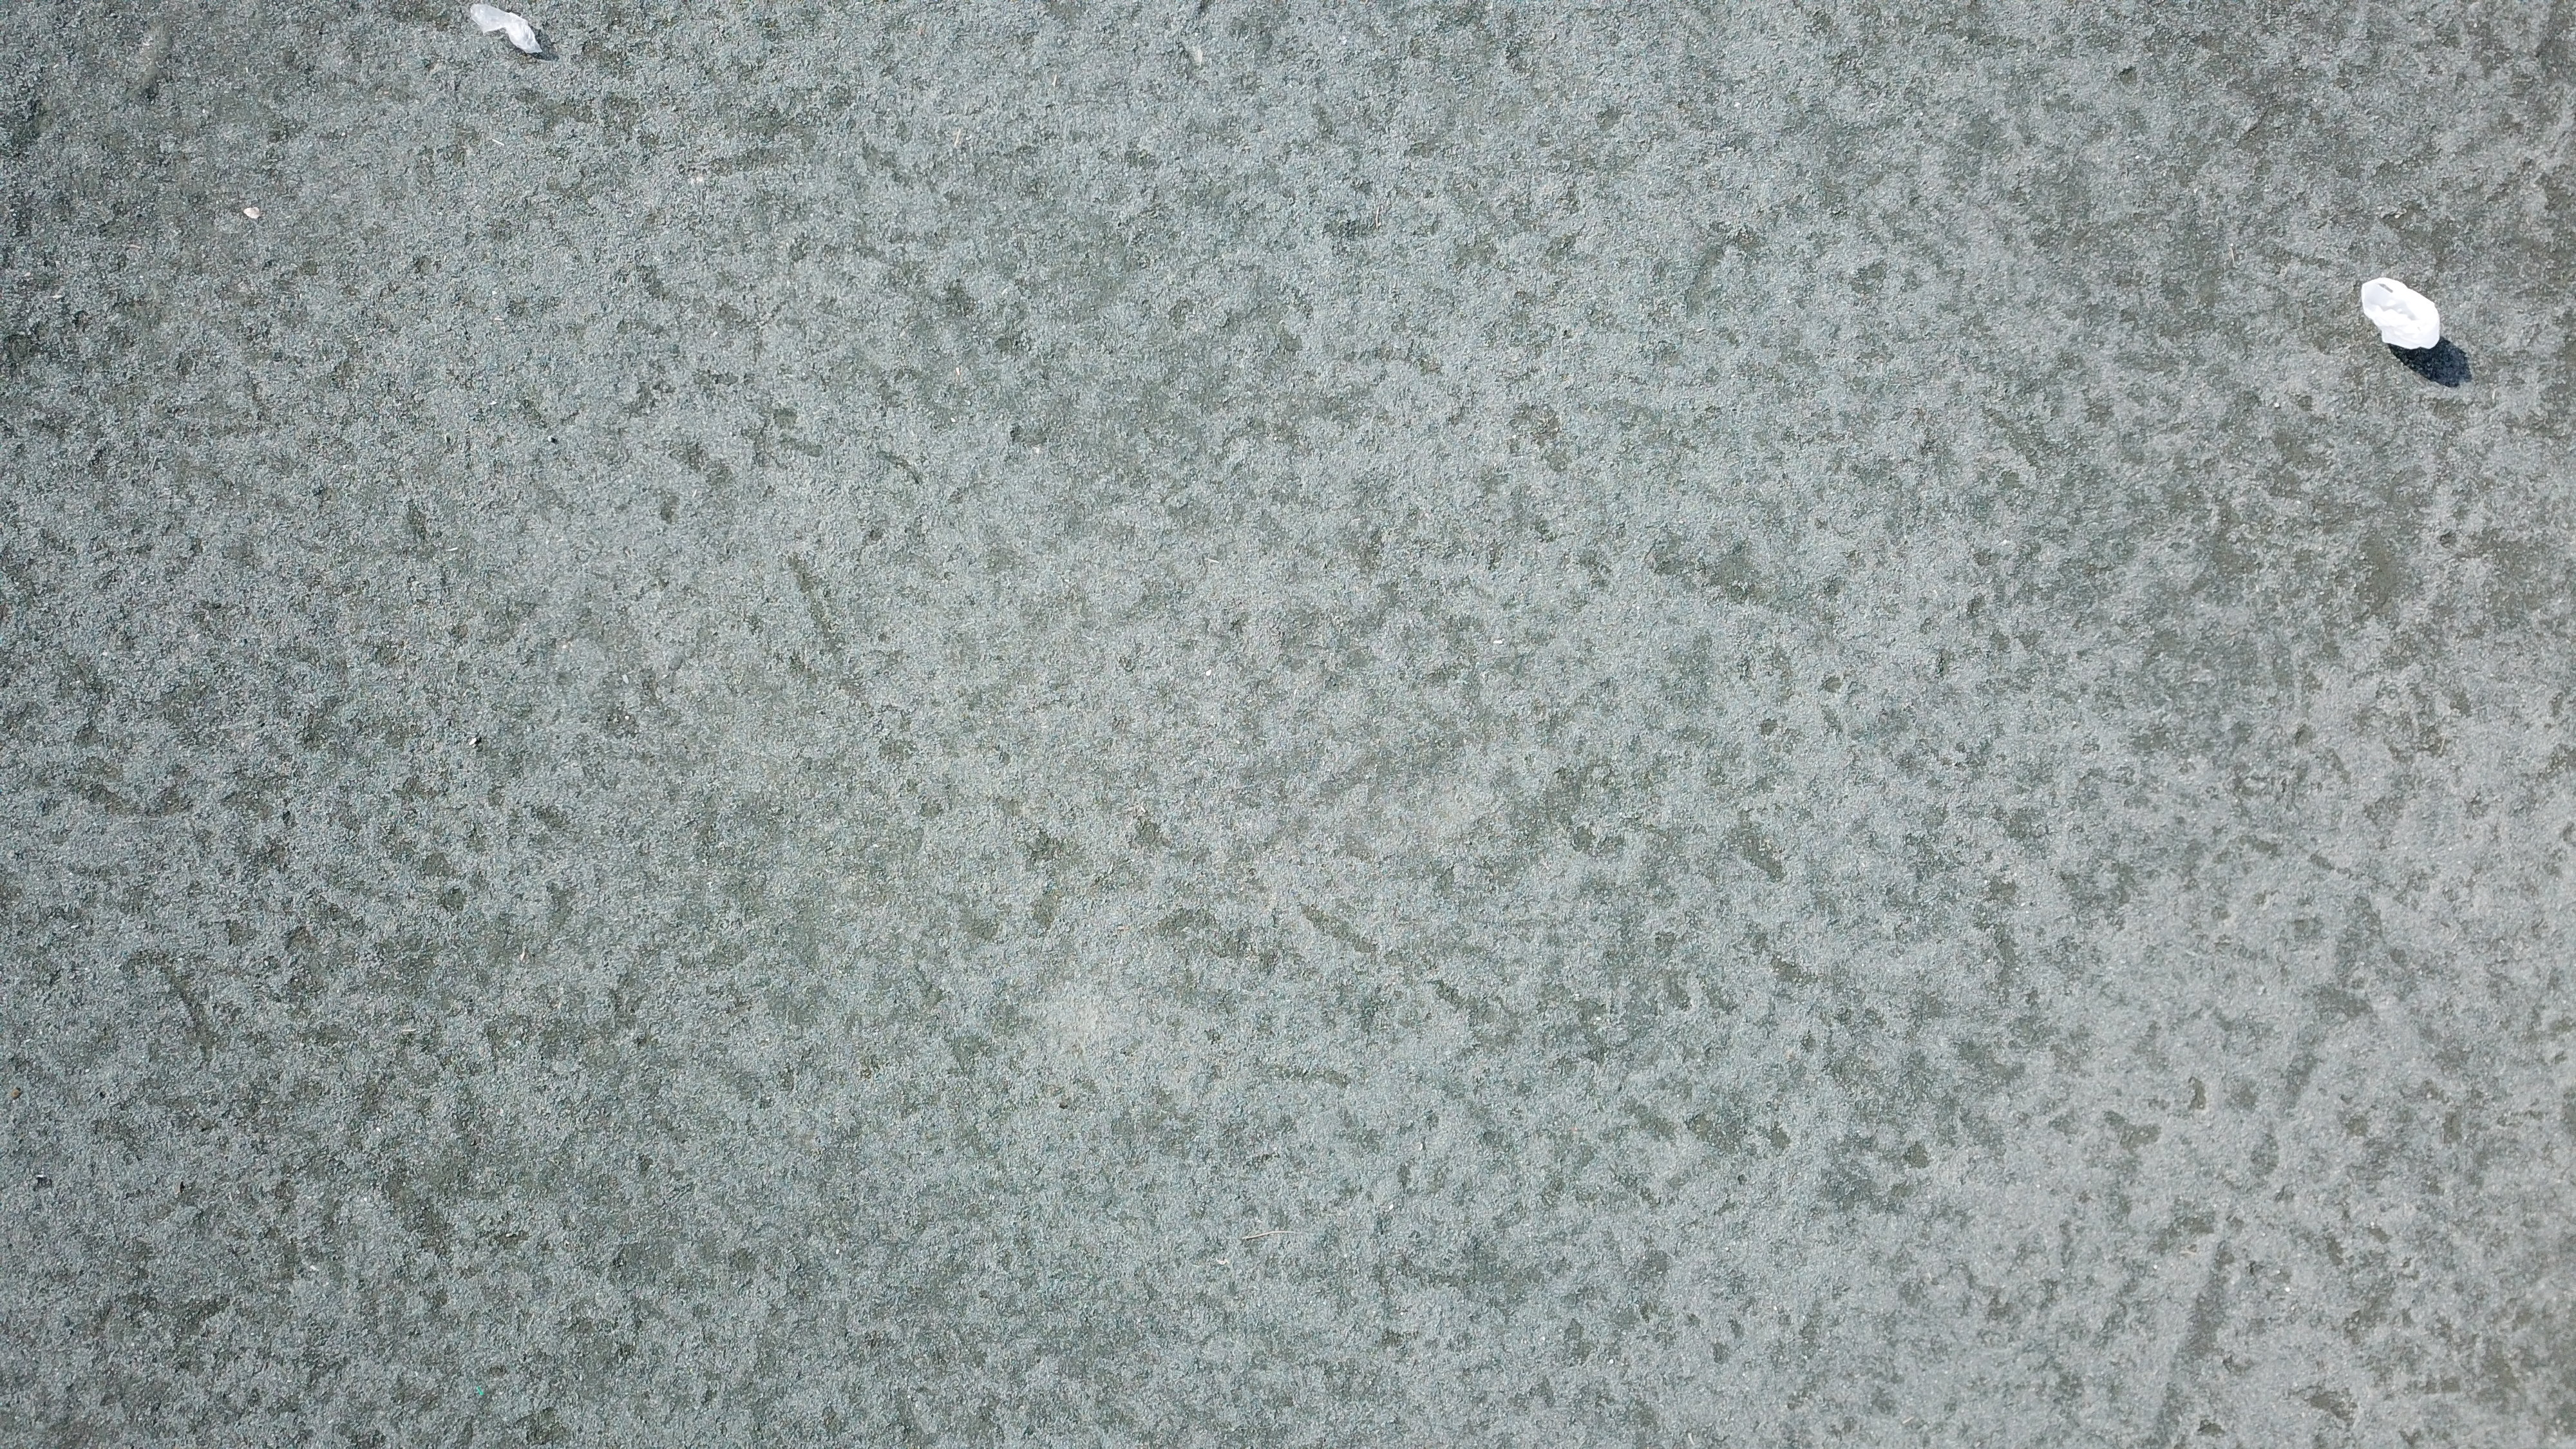Plastic: (2353, 274, 2449, 354), (460, 2, 556, 62)
